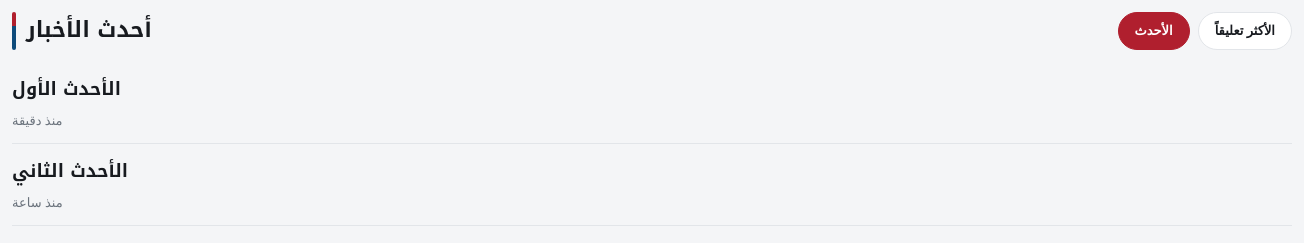
LatestNewsTabs › swaps the list — and only the list — when the other tab is picked
This screenshot has width=1304, height=243.
Click the button "الأكثر تعليقاً".
click(1245, 31)  # box [1198,12,1292,50]
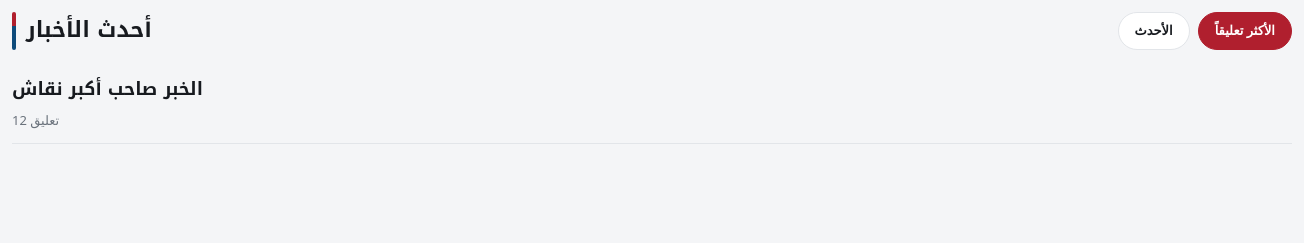
expect the text "12 تعليق" is shown: met, box [12,110,59,128]
expect the link "الأحدث الأول" is gone: met
